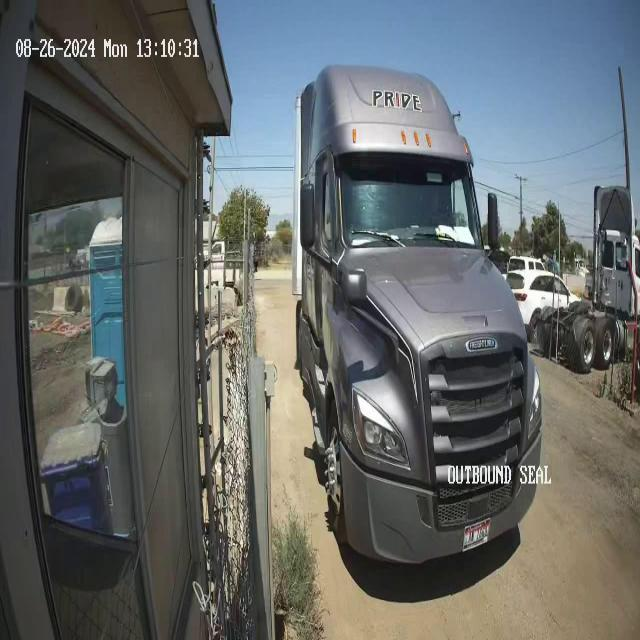TRUCK_IN: (294, 62, 544, 568)
